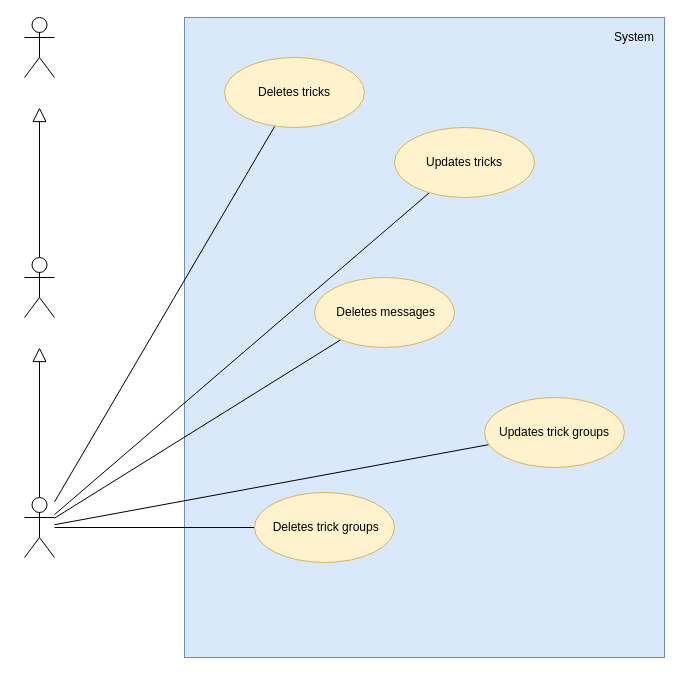
The diagram is 682 pixels wide and 675 high, and some of its shapes have lost their labels. The shapes that lost their labels are listed below. From the top down, each one's centre as x and y in pixels, then its label:
point 39,47: Visitor
point 39,287: Member
point 39,527: Admin
